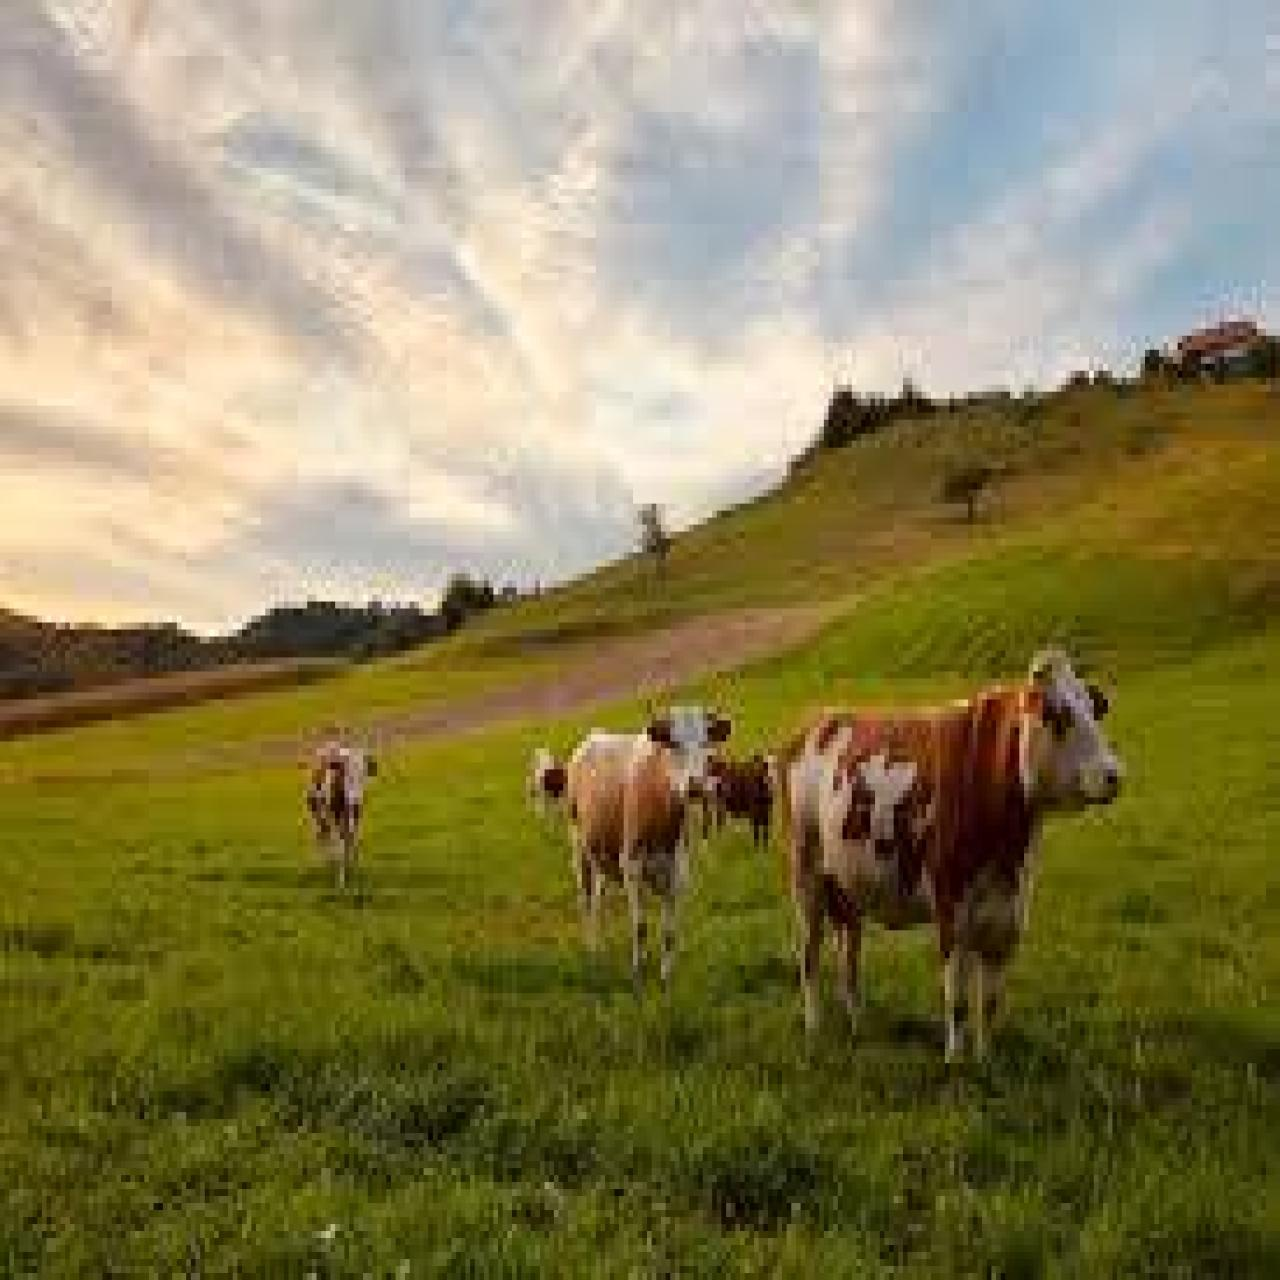cow: (775, 644, 1129, 1070), (558, 700, 735, 980), (300, 735, 384, 888), (700, 749, 775, 853), (519, 735, 566, 818)
